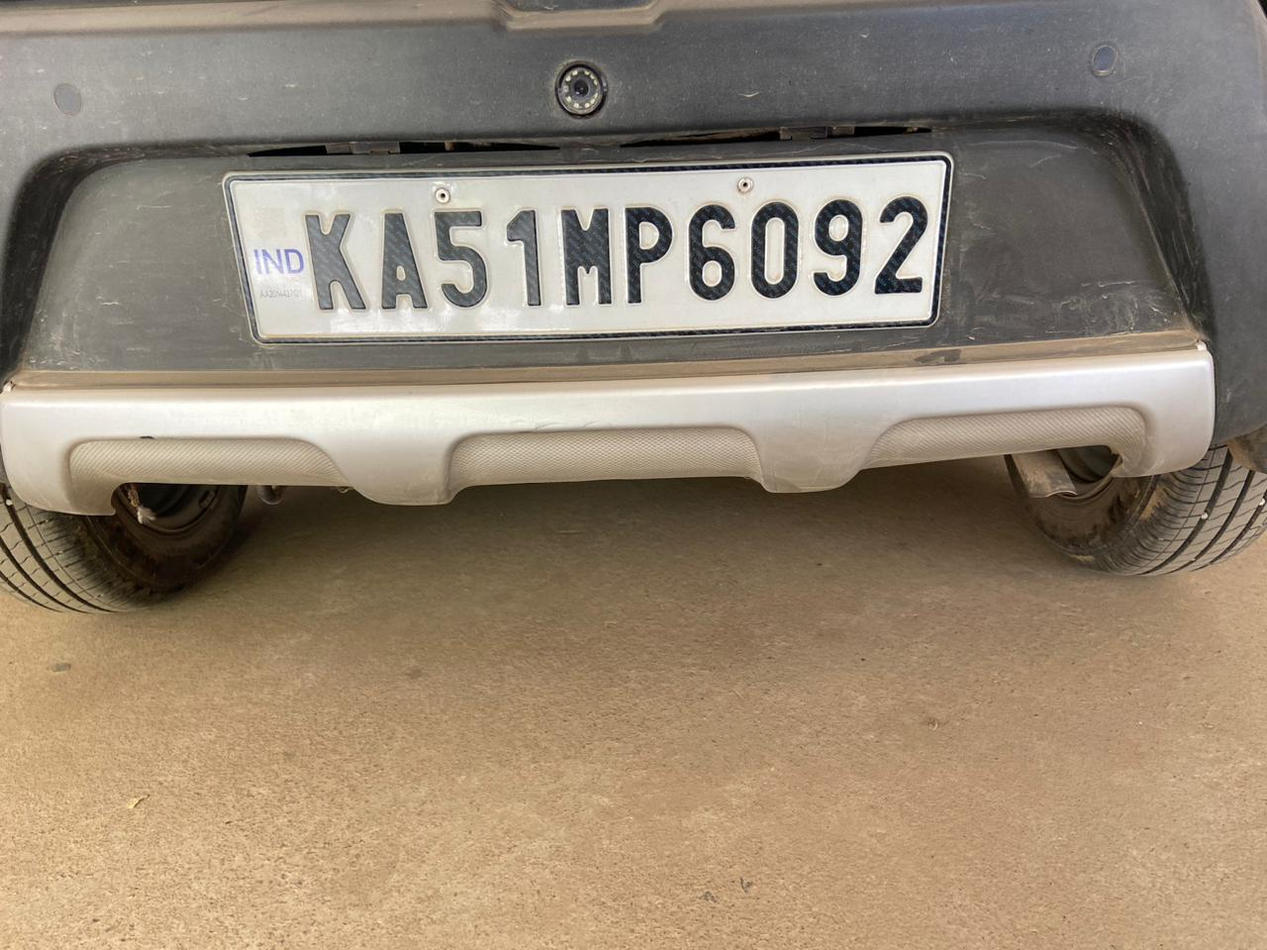0: (747, 196, 801, 301)
1: (497, 202, 552, 317)
2: (871, 186, 927, 303)
5: (426, 192, 503, 314)
6: (685, 206, 741, 309)
9: (810, 188, 866, 312)
A: (373, 202, 432, 325)
K: (291, 200, 375, 328)
M: (557, 202, 622, 322)
P: (614, 204, 679, 310)
